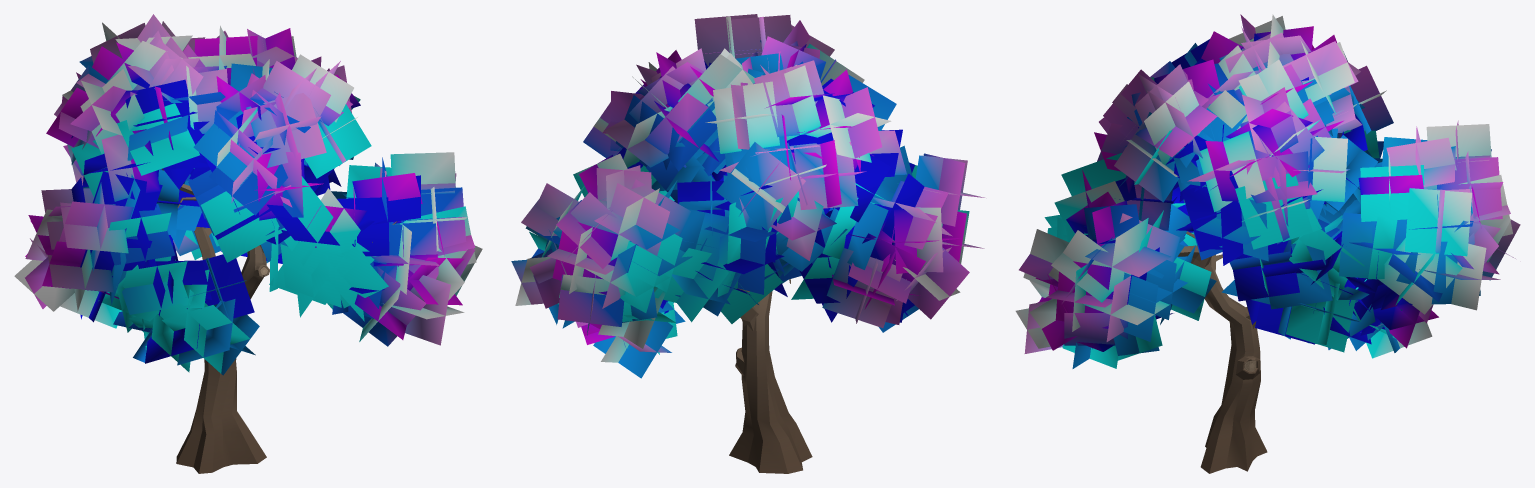
File: PT_Fruit_Tree_01_green.fbx
3 views of the same model, side by side, from view 1: azimuth 30°, elevation 25°; view 2: azimuth 150°, elevation 25°; view 3: azimuth 270°, elevation 25° (orthographic).
Parts seen in each view (by area): view 1: PT_Fruit_Tree_01_green_LOD0; view 2: PT_Fruit_Tree_01_green_LOD0; view 3: PT_Fruit_Tree_01_green_LOD0.
Boxes of the visible parts, box(x1,y1,x2,y2) form: PT_Fruit_Tree_01_green_LOD0: box(14, 14, 482, 473); PT_Fruit_Tree_01_green_LOD0: box(511, 14, 984, 473); PT_Fruit_Tree_01_green_LOD0: box(1015, 14, 1520, 473).
Size of what is drawn, in the model's own units: 650 by 658 by 725.
